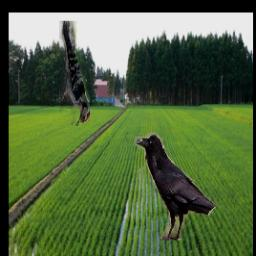Crow: (135, 130, 217, 240)
Woodpecker: (59, 22, 90, 127)
